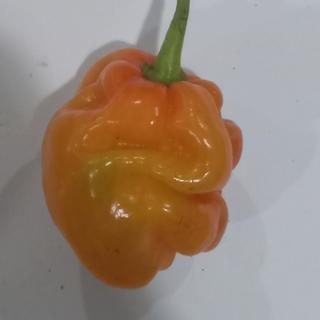Grade-A: (33, 38, 254, 291)
